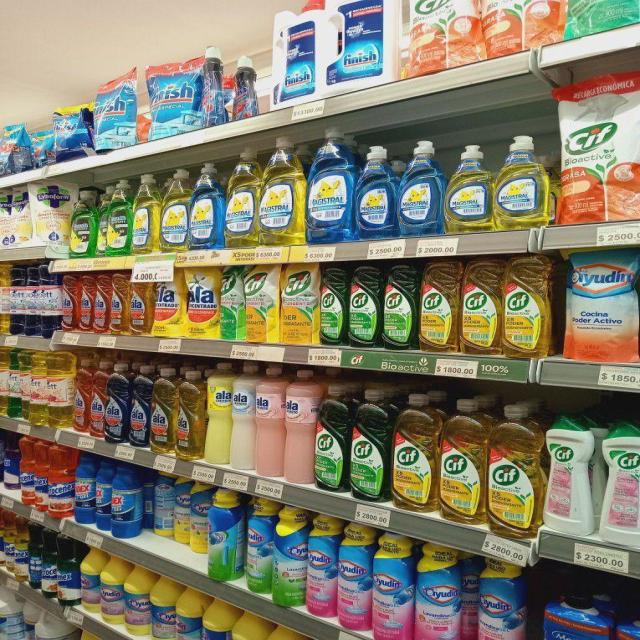ala_conc_amarillo: (176, 368, 205, 460), (150, 365, 176, 454), (130, 272, 152, 335), (111, 272, 129, 334)
ala_conc_azul: (105, 360, 129, 444), (129, 364, 150, 447), (235, 55, 257, 120)
ala_conc_rojo: (90, 359, 106, 438), (74, 357, 90, 434), (94, 272, 110, 334), (61, 273, 78, 331), (78, 273, 94, 332)
ala_crem_amarillo: (206, 362, 231, 464)
ala_crem_blanco: (230, 364, 256, 472)
ala_crem_rosado: (284, 367, 314, 485), (256, 364, 284, 477)
ala_sachet_amarillo: (186, 265, 220, 339), (153, 269, 184, 337)
cif_conc_bot_amarilla: (488, 401, 540, 536), (440, 396, 486, 524), (392, 391, 437, 511), (502, 256, 551, 357), (461, 259, 500, 355), (419, 262, 459, 352)
cif_conc_botella_verde: (350, 386, 390, 502), (314, 378, 348, 493), (382, 262, 418, 350), (348, 264, 381, 348), (320, 263, 347, 346)
cif_conc_sachet_amarillo: (281, 261, 318, 345), (245, 263, 280, 343)
cif_conc_sachet_verde: (220, 264, 244, 340)
magistral_con_amarillo: (494, 135, 549, 229), (260, 136, 304, 246), (446, 144, 492, 232), (225, 148, 259, 247), (161, 168, 189, 252), (132, 173, 160, 254)
magistral_con_azul: (307, 127, 354, 244), (398, 139, 444, 237), (356, 144, 396, 239), (189, 162, 224, 250)
